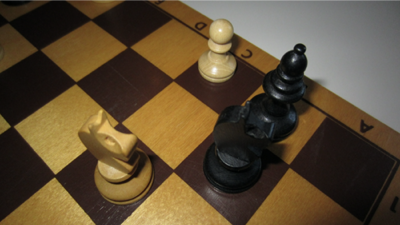black-bishop: (248, 44, 309, 146)
black-knight: (202, 101, 276, 195)
white-knight: (77, 109, 155, 207)
white-pawn: (197, 18, 238, 84)
